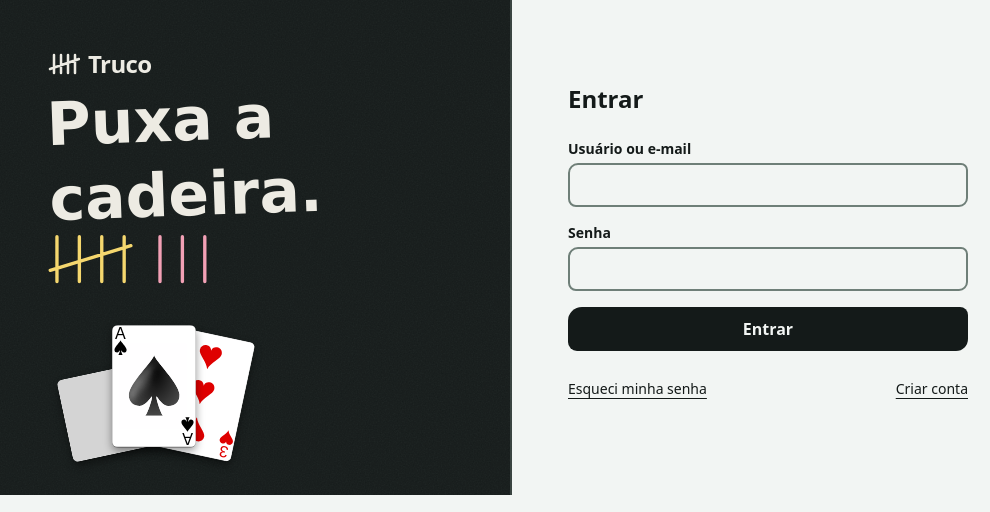
Test: login com erro mostra o texto do código
This screenshot has width=990, height=512.
Step 1. Type "ana" into the field labelled "Usuário ou e-mail" → (768, 185), box [568, 163, 968, 207]
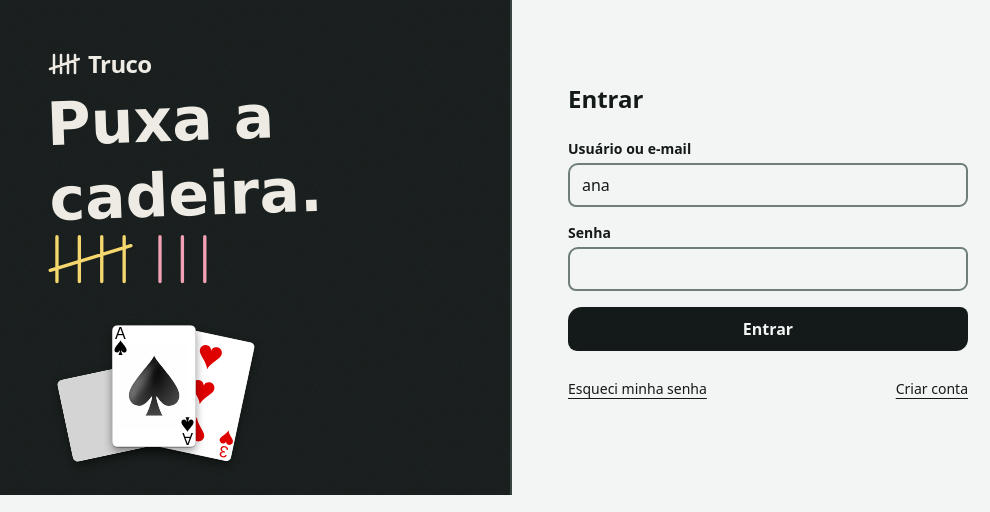
Step 2. Type "senha-errada" into the password field labelled "Senha" → (768, 269), box [568, 247, 968, 291]
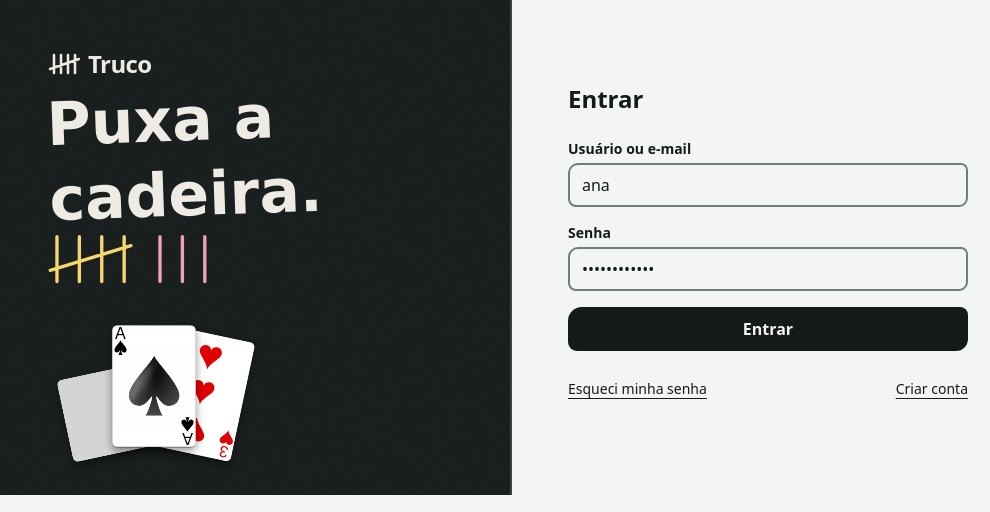
Step 3. Submit the form, box [568, 139, 968, 351]
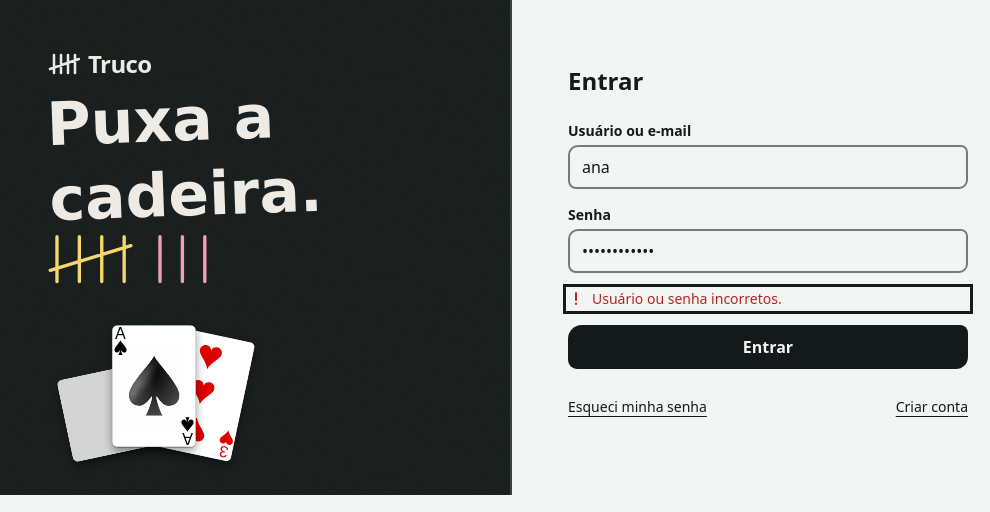
Check: the text "Usuário ou senha incorretos." is shown, box [592, 289, 782, 309]
Check: the message "Usuário ou senha incorretos." is shown, box [568, 289, 782, 308]
